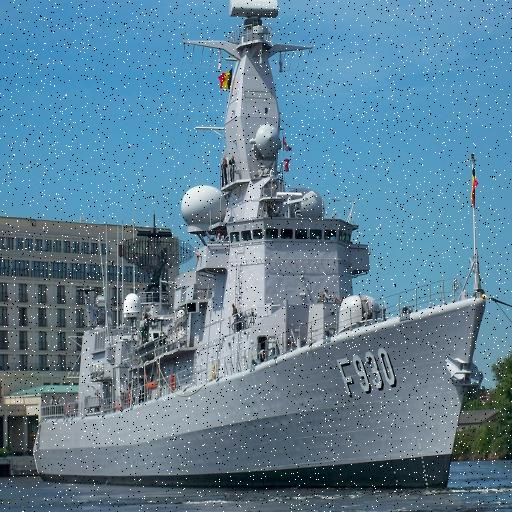Fragata: (1, 1, 316, 502)
